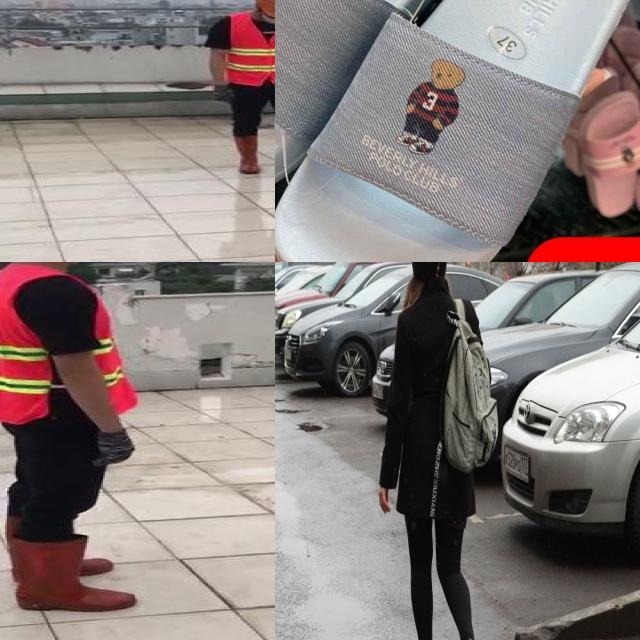Sandals: (275, 0, 640, 262)
boots: (6, 534, 138, 612), (231, 135, 259, 177)
hand_glove: (92, 428, 137, 471), (204, 78, 238, 104)
head_helmet: (251, 0, 275, 21)
person: (0, 262, 152, 624), (199, 0, 275, 182)
vest: (0, 263, 136, 423), (220, 12, 275, 83)
